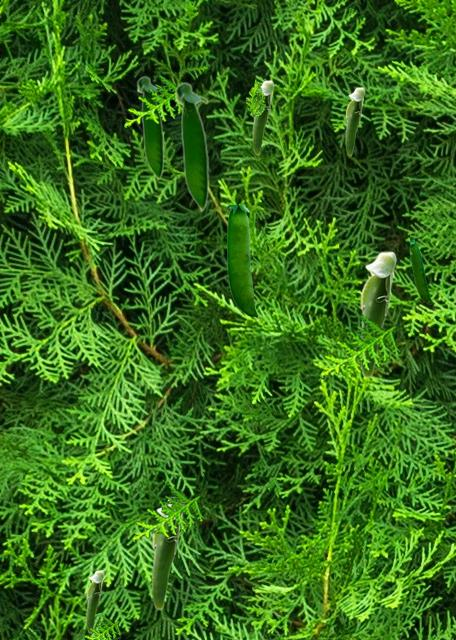pea: (359, 251, 396, 377), (174, 81, 208, 213), (151, 496, 184, 609), (227, 205, 257, 318), (136, 75, 163, 181), (252, 80, 273, 154), (409, 235, 431, 303), (345, 87, 364, 155), (86, 570, 103, 632)
